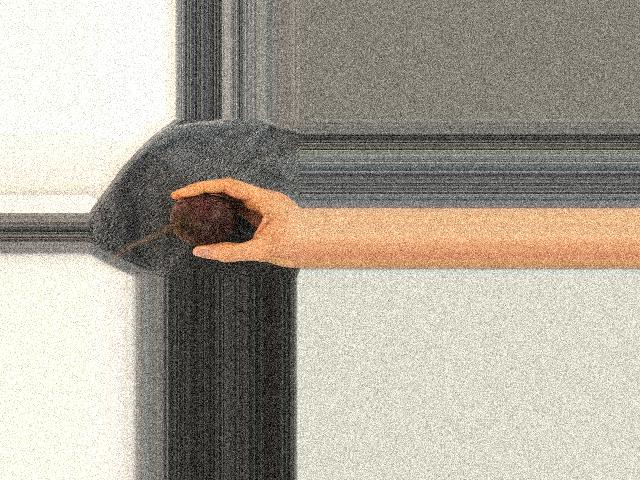beet: (170, 194, 235, 245)
